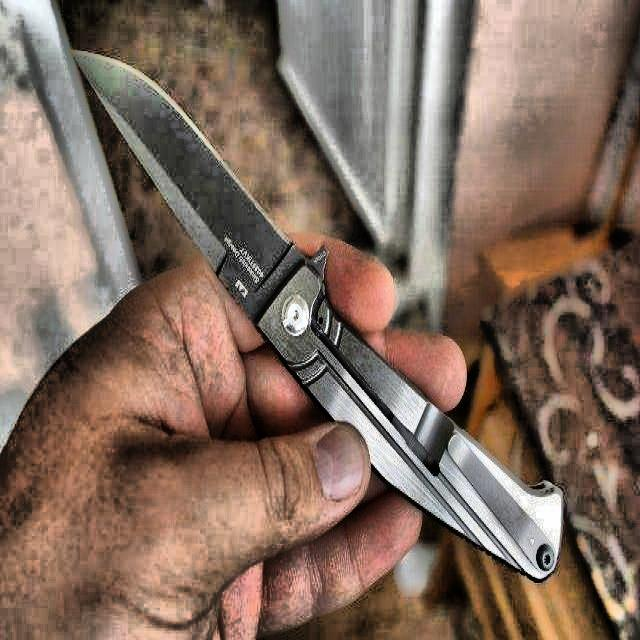knife: (72, 53, 564, 582)
